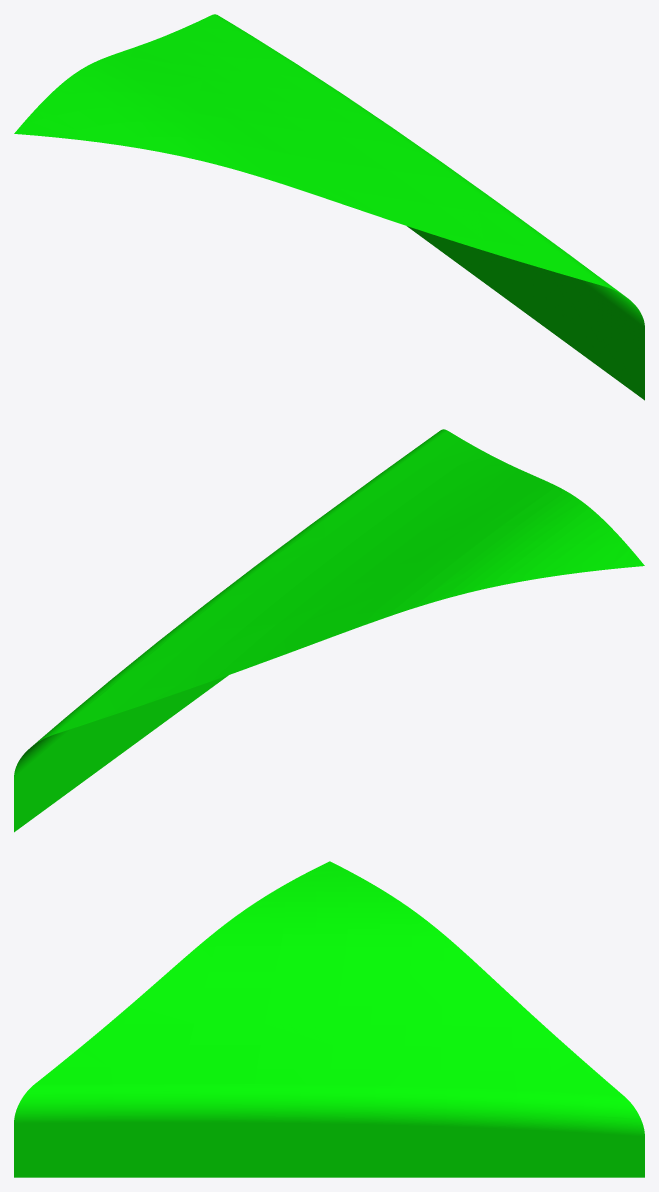
Rendered from TS_F_A_right_pad_3_visuals.obj.
3 views of the same model, one above another, from view 1: azimuth 30°, elevation 25°; view 2: azimuth 150°, elevation 25°; view 3: azimuth 270°, elevation 25° (orthographic). The views are drawn at different scales.
Bounding box in the file's own units: 0.0055 × 0.00269 × 0.0095.
